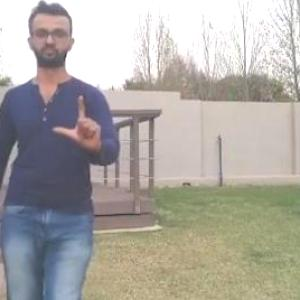land_hand: (54, 87, 112, 156)
